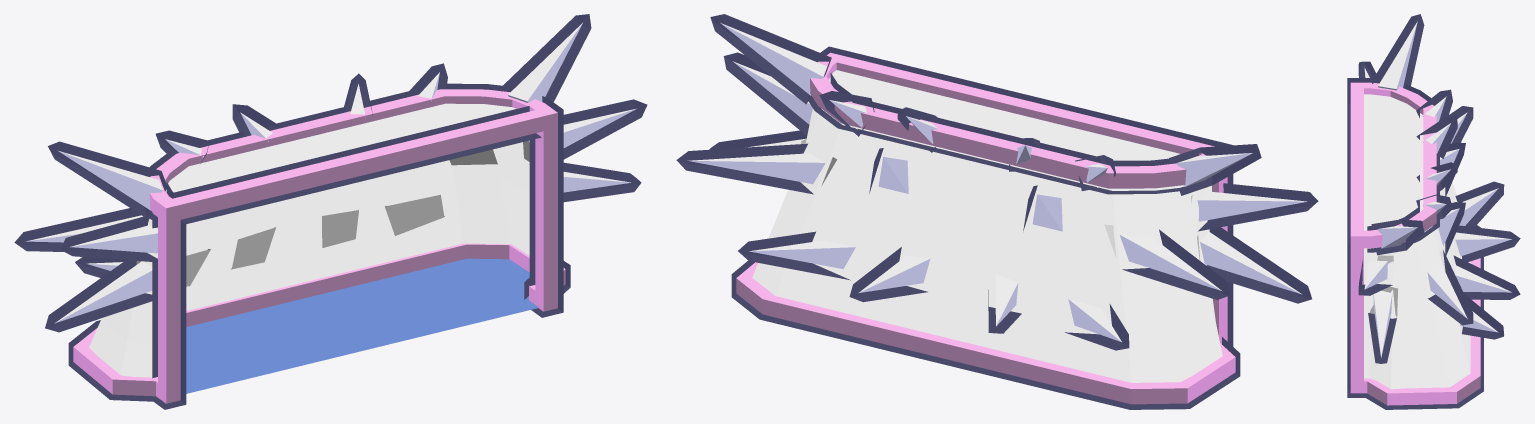
Rendered from net_battle.glb.
3 renders of one model, left to right at view 1: azimuth 30°, elevation 25°; view 2: azimuth 150°, elevation 25°; view 3: azimuth 270°, elevation 25°, orthographic. The views are drawn at different scales.
Visible parts, largest first — view 1: battle_frame, battle_netting, battle_outline, battle_shadow; view 2: battle_netting, battle_frame, battle_outline; view 3: battle_netting, battle_frame, battle_outline.
Part boxes in pixels (left/top/right/bottom): battle_frame: left=25, top=23, right=636, bottom=403; battle_netting: left=89, top=103, right=529, bottom=377; battle_outline: left=14, top=14, right=647, bottom=409; battle_shadow: left=186, top=258, right=538, bottom=393; battle_netting: left=752, top=70, right=1222, bottom=382; battle_frame: left=687, top=23, right=1306, bottom=404; battle_outline: left=676, top=14, right=1318, bottom=409; battle_netting: left=1364, top=94, right=1470, bottom=389; battle_frame: left=1350, top=21, right=1511, bottom=405; battle_outline: left=1347, top=14, right=1520, bottom=409.
Size of the model in its own units: 3.32 by 1.32 by 1.04.
